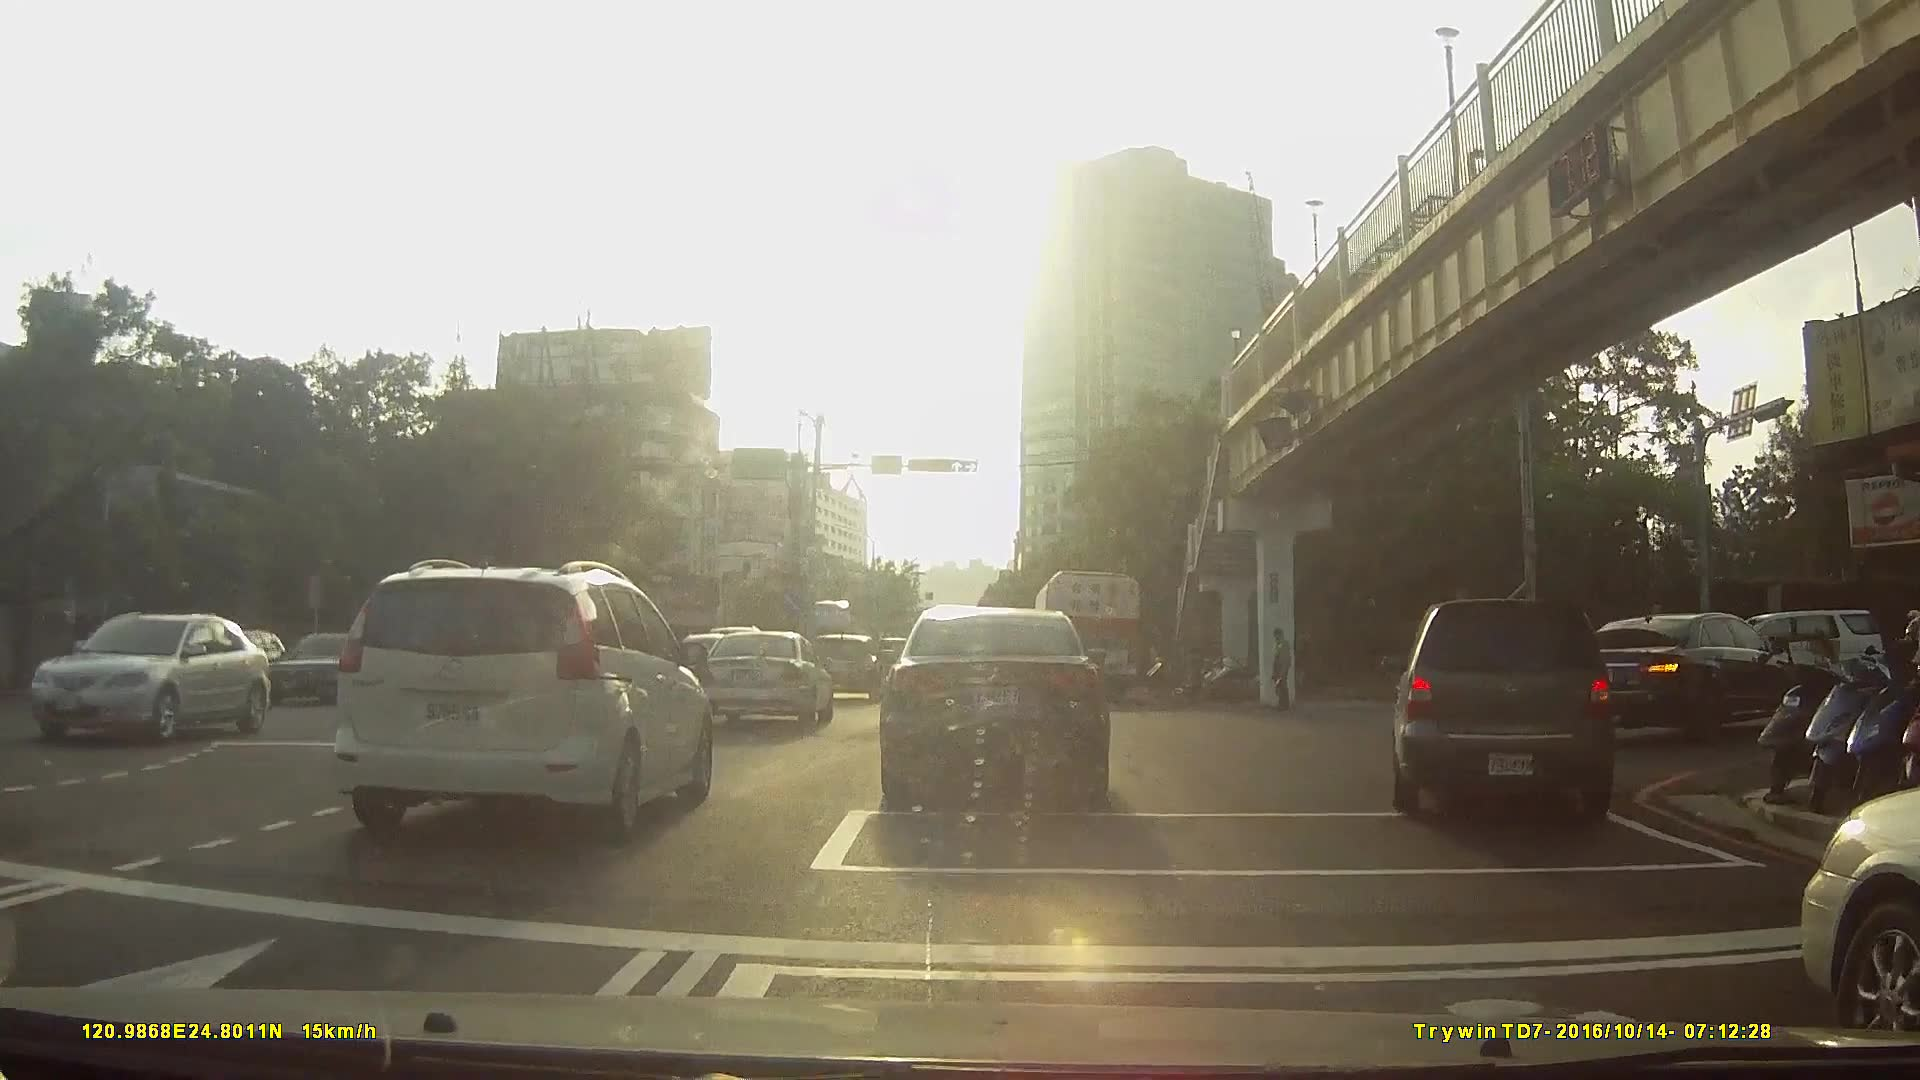pedestrian: (1265, 625, 1301, 716)
vehicle: (332, 554, 716, 841), (1379, 591, 1630, 824), (882, 598, 1110, 812), (1573, 612, 1830, 740), (41, 606, 268, 738), (1031, 565, 1142, 701), (699, 628, 836, 731), (810, 631, 886, 702)
